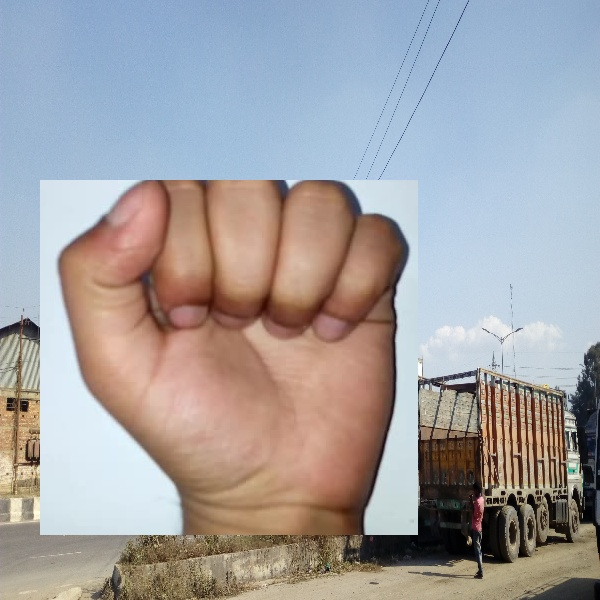A: (40, 180, 418, 535)
